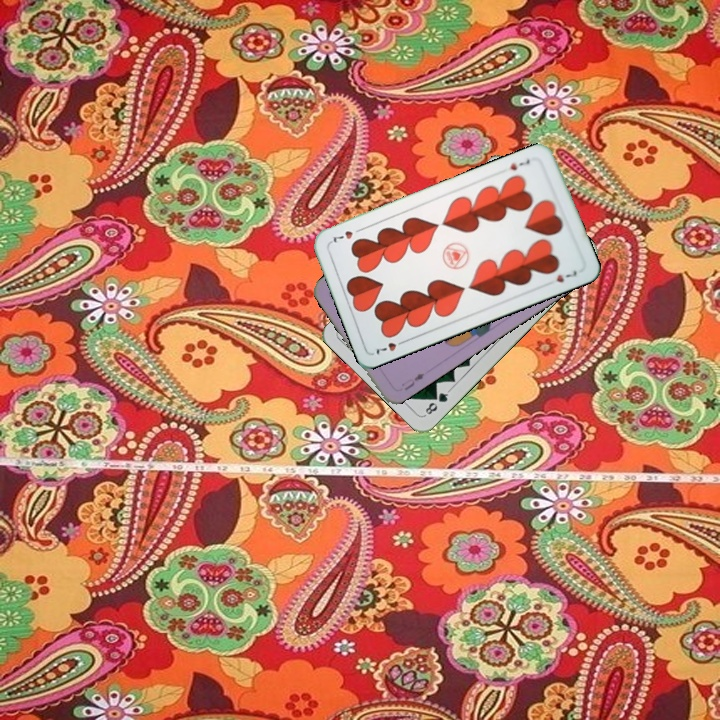EU: (397, 369, 427, 393)
G8: (421, 386, 452, 418)
H7: (372, 335, 409, 358), (506, 155, 532, 173)
